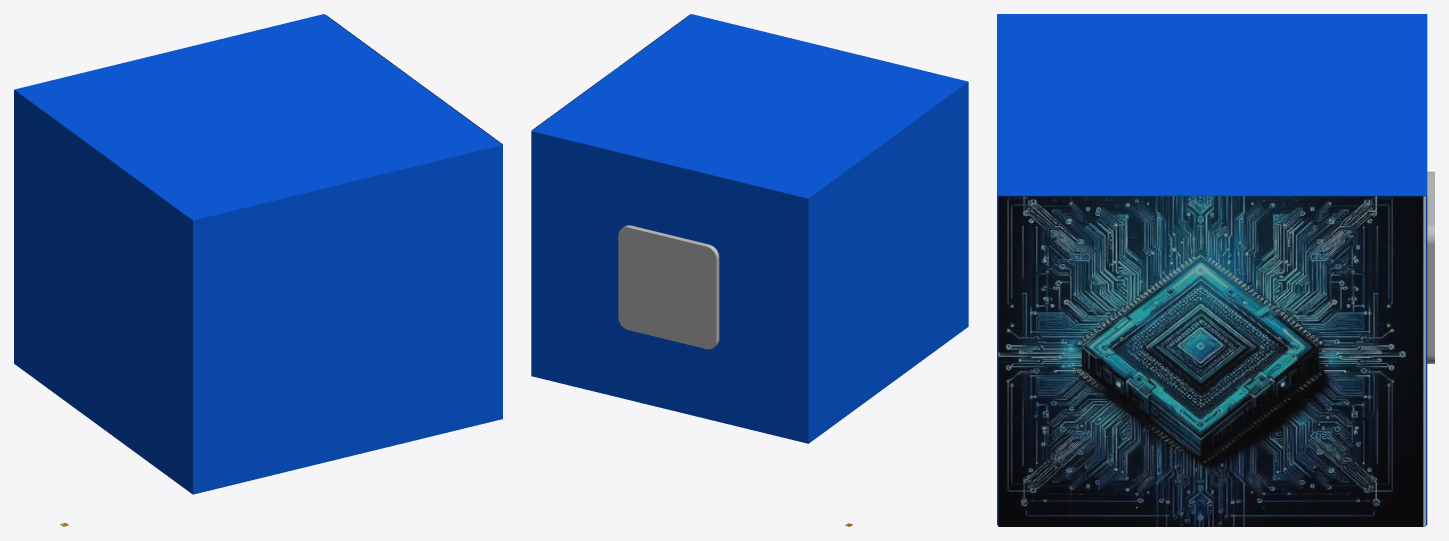
Rendered from lowendcpu.fbx.
3 views of the same model, side by side, from view 1: azimuth 30°, elevation 25°; view 2: azimuth 150°, elevation 25°; view 3: azimuth 270°, elevation 25° (orthographic). The views are drawn at different scales.
Parts seen in each view (by area): view 1: PCB-base; view 2: PCB-base; view 3: PCB-base.
Part boxes in pixels (left/top/right/bottom): PCB-base: left=14, top=14, right=502, bottom=526; PCB-base: left=531, top=14, right=968, bottom=526; PCB-base: left=997, top=14, right=1434, bottom=526.
Size of the model in its own units: 201 by 247 by 204.
5 materials, 1 textured.
